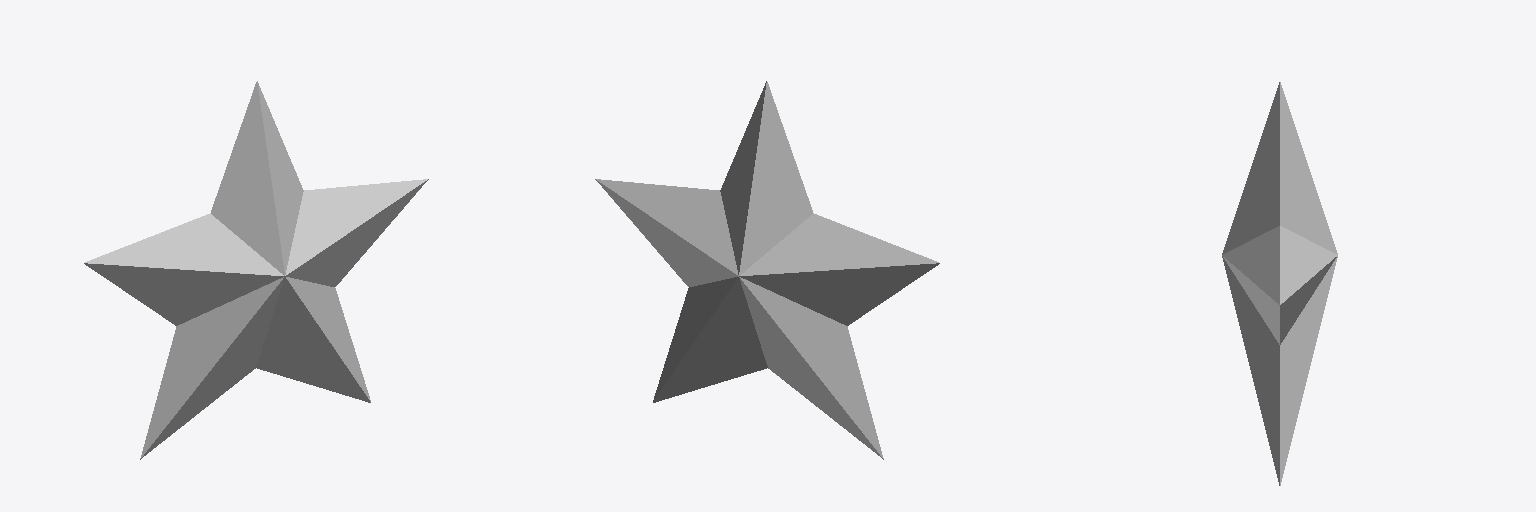
File: Star.obj
3 renders of one model, left to right at view 1: azimuth 30°, elevation 25°; view 2: azimuth 150°, elevation 25°; view 3: azimuth 270°, elevation 25°, orthographic.
Visible parts, largest first — view 1: Cone; view 2: Cone; view 3: Cone.
Boxes of the visible parts, x1=… form: Cone: x1=84, y1=81, x2=428, y2=459; Cone: x1=595, y1=81, x2=939, y2=459; Cone: x1=1222, y1=82, x2=1337, y2=485.
Size of the model in its own units: 6.87 by 6.66 by 2.